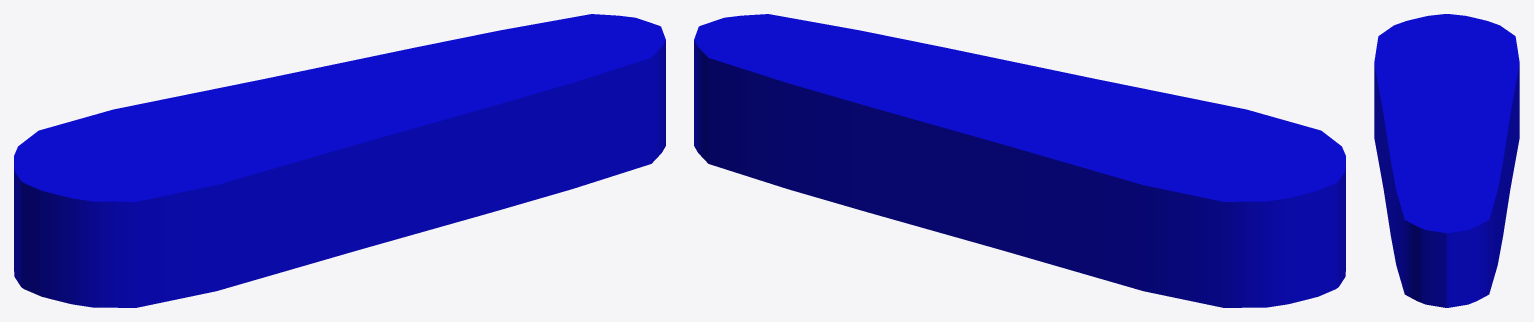
File: Flipper.fbx
3 views of the same model, side by side, from view 1: azimuth 30°, elevation 25°; view 2: azimuth 150°, elevation 25°; view 3: azimuth 270°, elevation 25° (orthographic). The views are drawn at different scales.
Parts seen in each view (by area): view 1: pCube1; view 2: pCube1; view 3: pCube1.
Boxes of the visible parts, left/top/right/bottom form: pCube1: left=14, top=14, right=665, bottom=307; pCube1: left=694, top=14, right=1345, bottom=307; pCube1: left=1374, top=14, right=1519, bottom=307.
Size of the model in its own units: 16.93 by 2.69 by 4.75.
